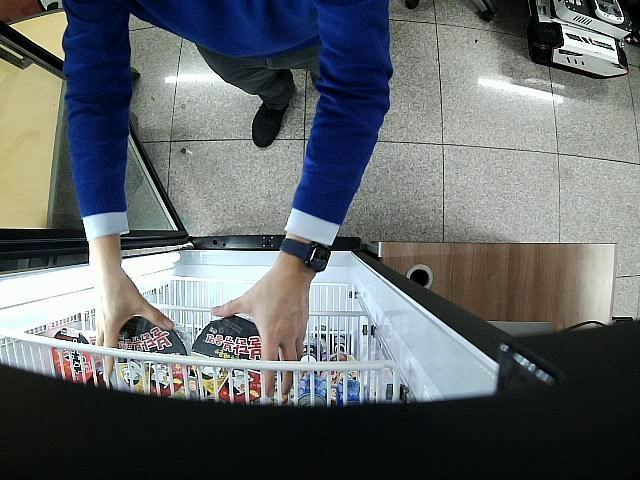07_buldak_L: (190, 316, 262, 402), (117, 316, 188, 396)
